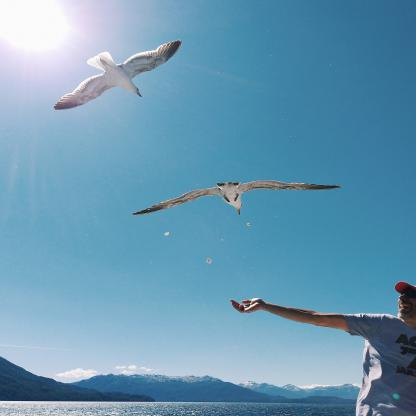bird: (53, 39, 181, 113), (134, 179, 342, 217)
